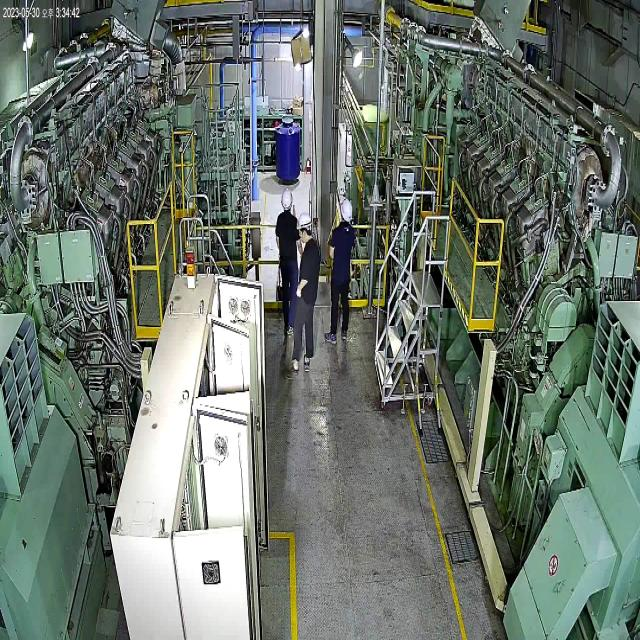Water Tank: (272, 106, 304, 190)
worker: (290, 212, 323, 380), (326, 192, 357, 360), (273, 178, 301, 348)
